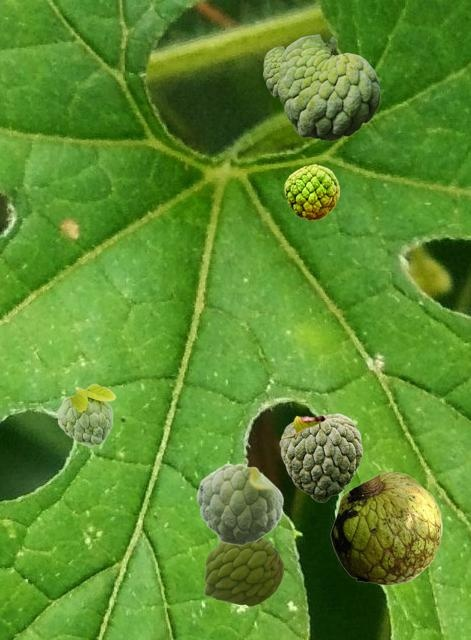atis: (330, 471, 441, 584), (278, 34, 379, 140), (279, 413, 361, 501), (196, 463, 283, 544), (204, 538, 282, 605), (56, 383, 115, 446), (284, 164, 338, 219), (263, 46, 284, 98)
